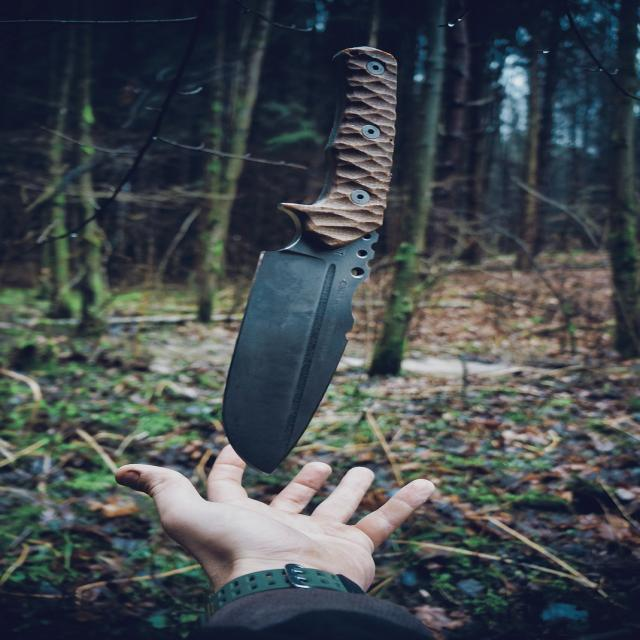Knife: (223, 47, 396, 472)
